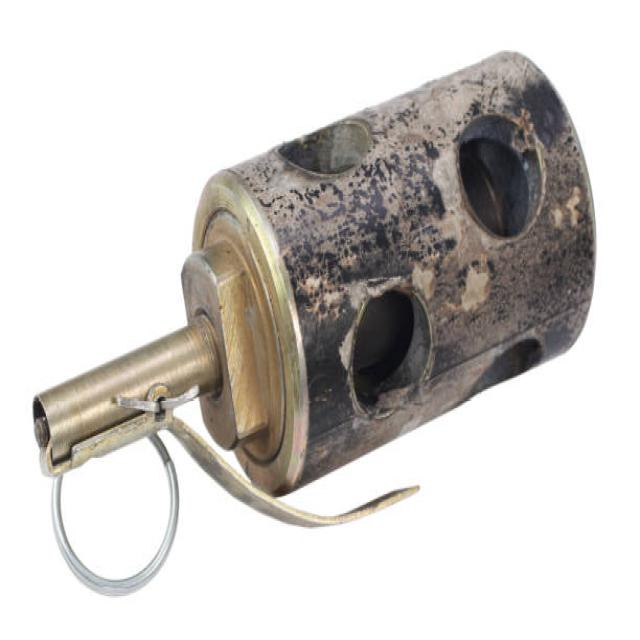grenade: (29, 52, 601, 600)
